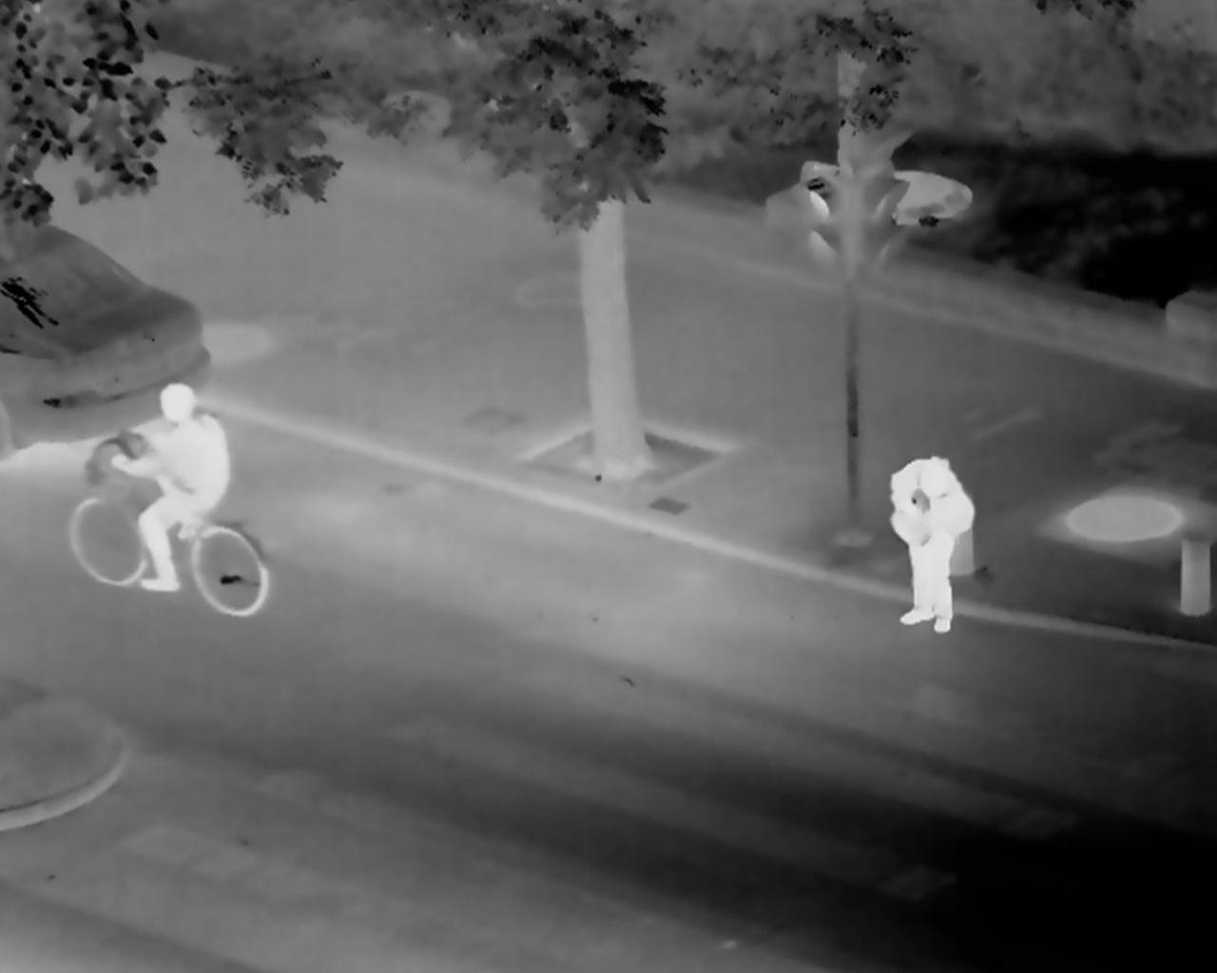person: (104, 384, 244, 601), (884, 448, 990, 639)
